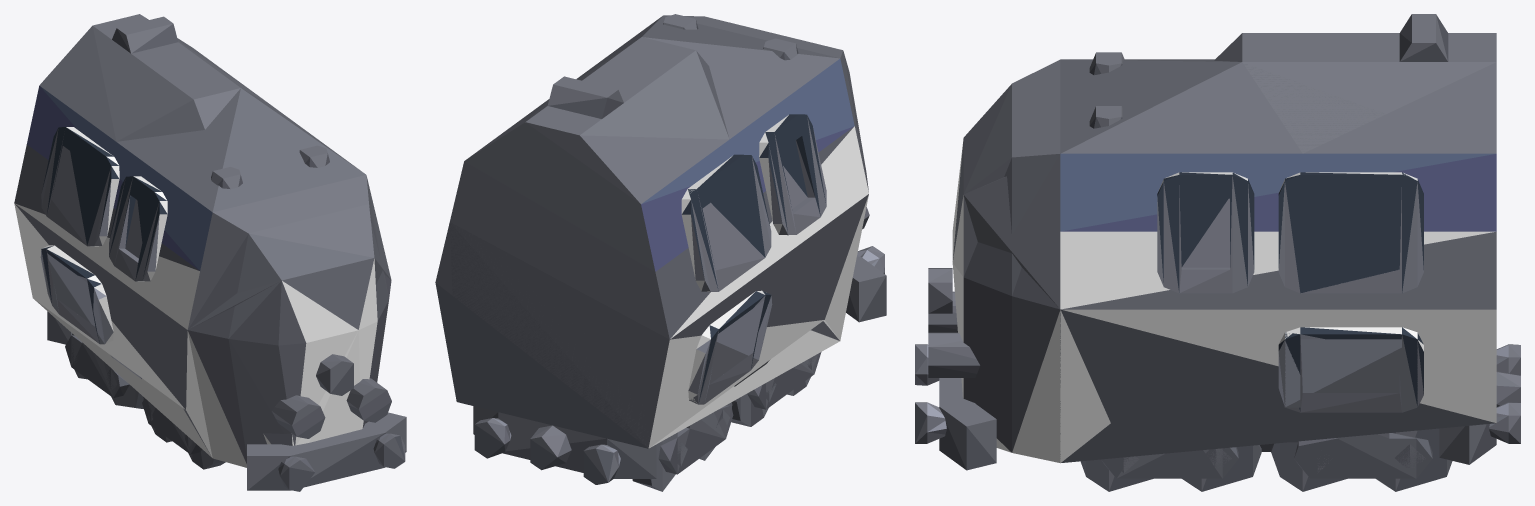
Rendered from train.double.glb.
The picture shows the model from 3 angles, left to right: view 1: azimuth 30°, elevation 25°; view 2: azimuth 150°, elevation 25°; view 3: azimuth 270°, elevation 25°; orthographic projection. The views are drawn at different scales.
Parts seen in each view (by area): view 1: near, far; view 2: near, far; view 3: near, far.
Boxes of the visible parts, <box> form: near: <box>14,14,406,491</box>; far: <box>34,50,391,457</box>; near: <box>435,14,886,491</box>; far: <box>450,15,866,448</box>; near: <box>915,14,1520,491</box>; far: <box>963,59,1493,462</box>.
Bounding box in the file's own units: 2.9 × 4.34 × 5.64.
